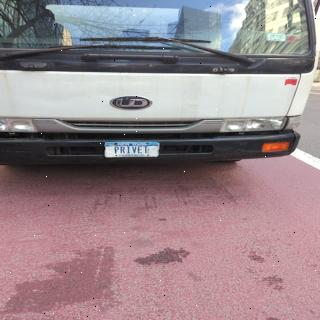license: (103, 142, 162, 159)
